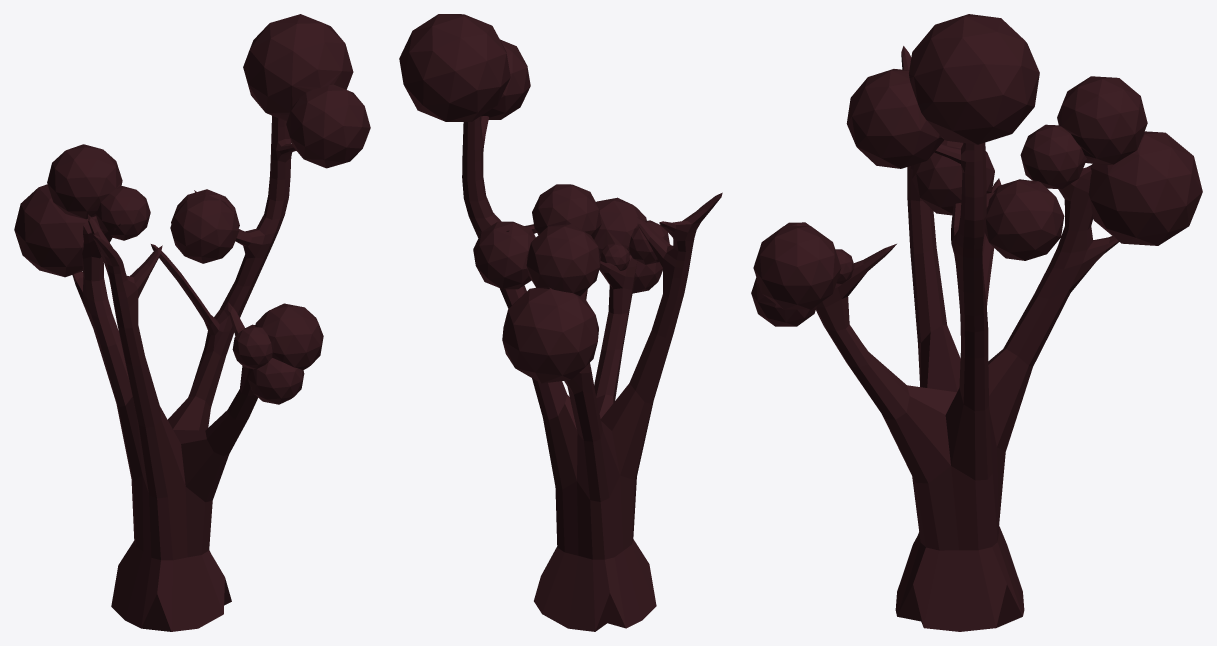
The model's file is tree_003.fbx.
3 views of the same model, side by side, from view 1: azimuth 30°, elevation 25°; view 2: azimuth 150°, elevation 25°; view 3: azimuth 270°, elevation 25° (orthographic). The views are drawn at different scales.
Visible parts, largest first — view 1: tree003; view 2: tree003; view 3: tree003.
Boxes of the visible parts, <box> form: tree003: <box>14,14,370,631</box>; tree003: <box>399,14,722,631</box>; tree003: <box>751,14,1202,631</box>.
Bounding box in the file's own units: 428 × 805 × 491.
